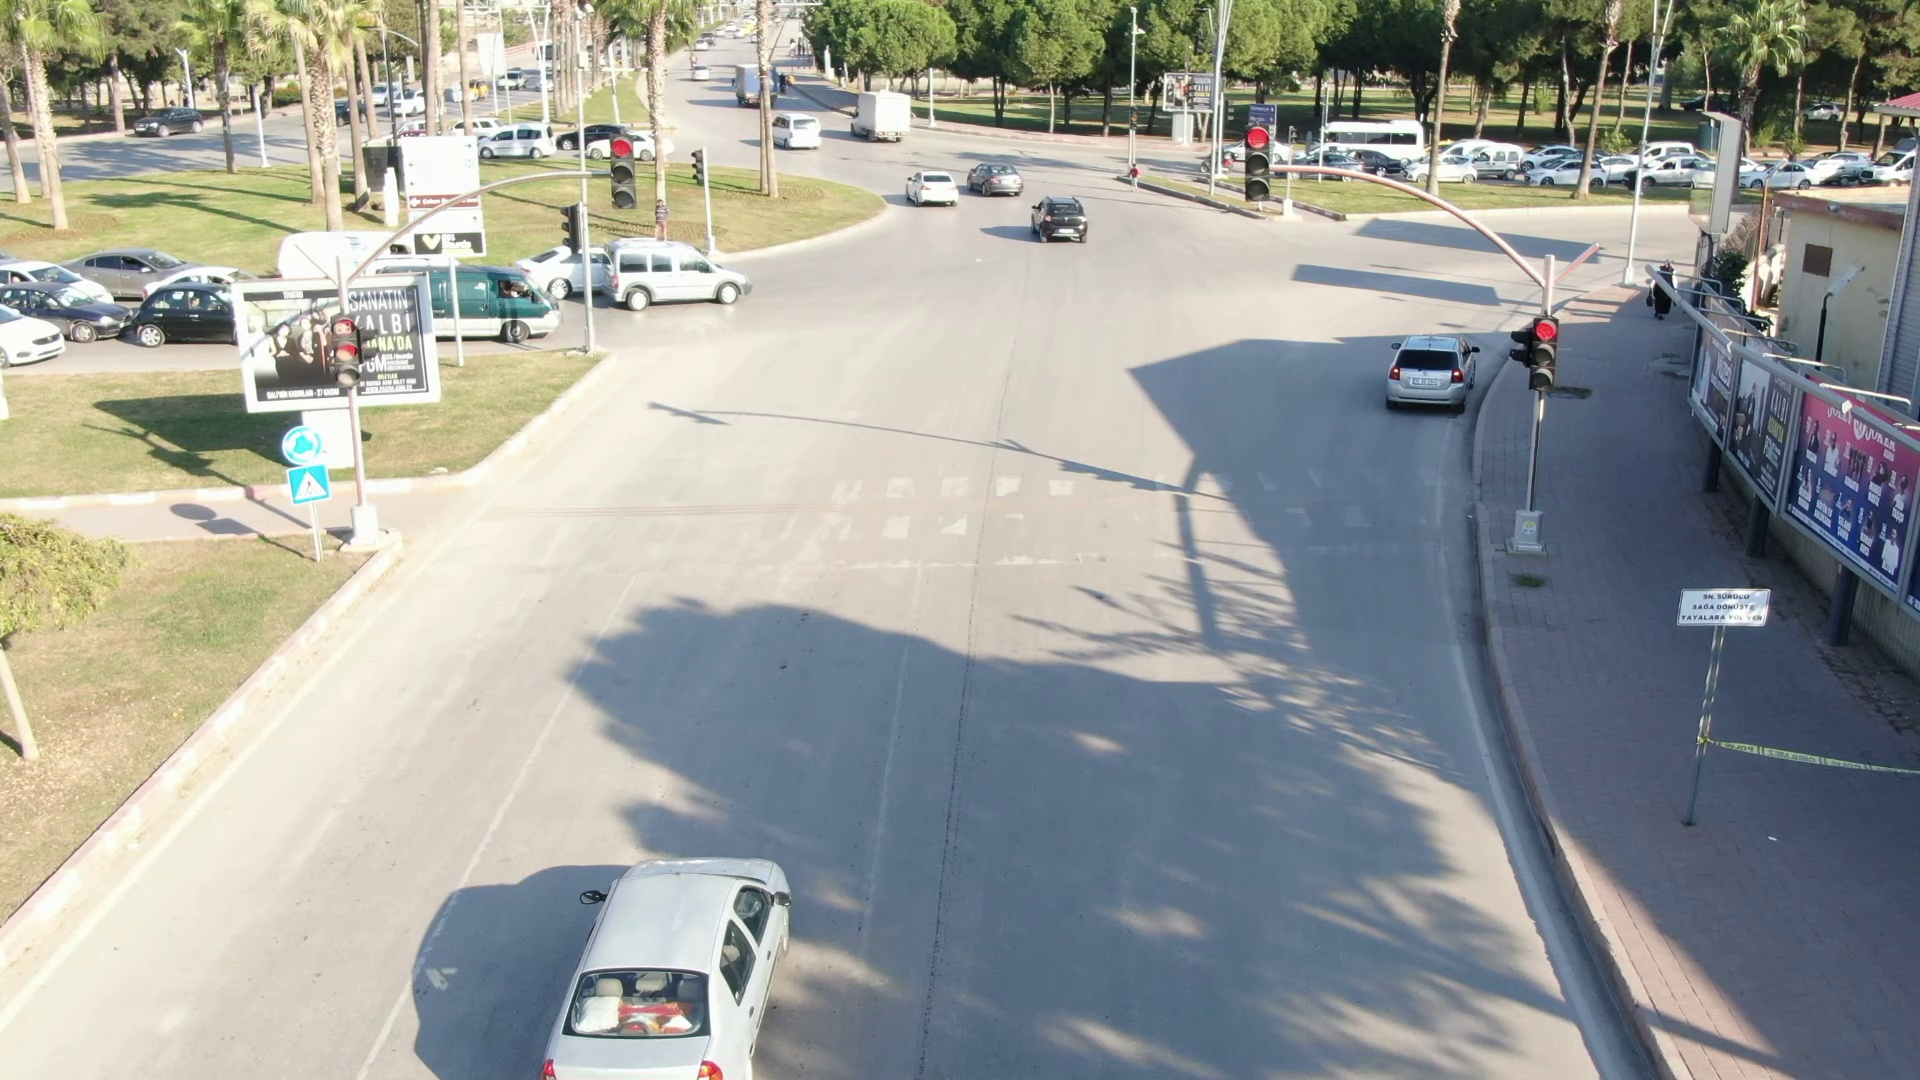car: (483, 810, 887, 1080), (593, 225, 771, 326), (1362, 324, 1485, 423), (1022, 190, 1122, 248), (957, 146, 1035, 208), (889, 156, 968, 214), (848, 90, 926, 148), (760, 98, 841, 149)
